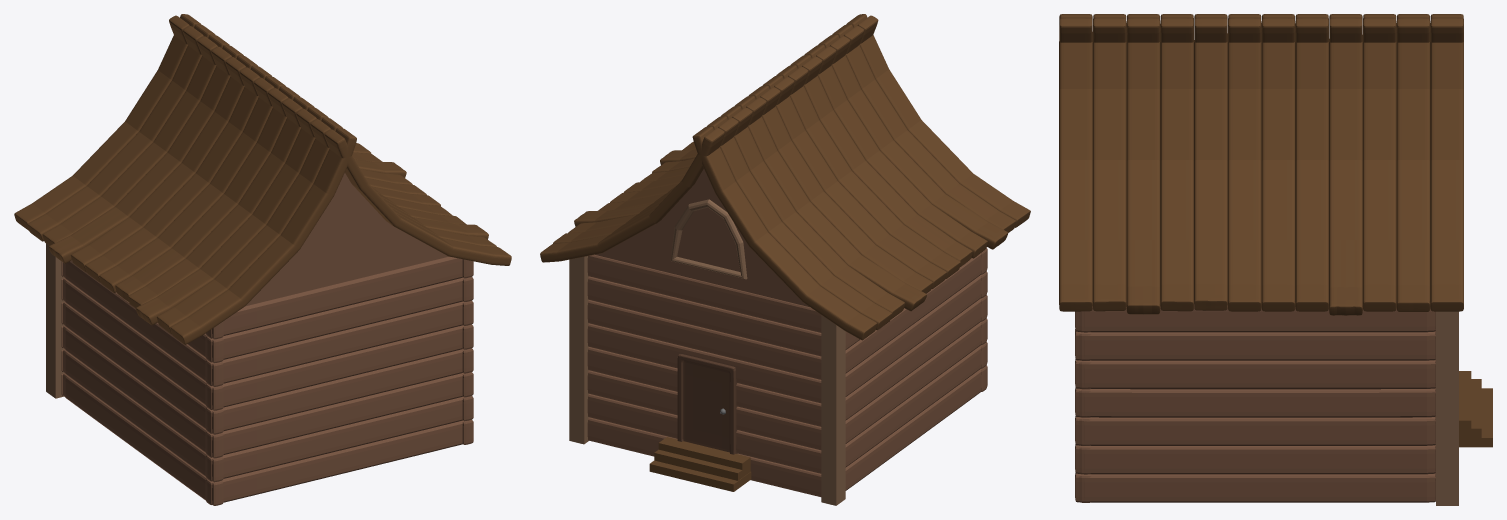
File: cabinsingle.fbx
The picture shows the model from 3 angles, left to right: view 1: azimuth 30°, elevation 25°; view 2: azimuth 150°, elevation 25°; view 3: azimuth 270°, elevation 25°; orthographic projection. The views are drawn at different scales.
Parts seen in each view (by area): view 1: Cube.006, Cube.010, Cube.005, Cube.007, Plane.004, Cube.009, Cube.004; view 2: Cube.006, Cube.003, Cube.005, Cube.007, Plane, Plane.001, Cube.009, Cube.012, Cube.008, Circle.003, Cube.010; view 3: Cube.007, Cube.004, Cube.006, Cube.008, Cube.012, Cube.010.
Part boxes in pixels (bbox=[...]): Cube.006: bbox=[14, 14, 356, 344]; Cube.010: bbox=[205, 256, 463, 504]; Cube.005: bbox=[63, 260, 223, 505]; Cube.007: bbox=[169, 15, 511, 265]; Plane.004: bbox=[245, 173, 448, 306]; Cube.009: bbox=[46, 243, 64, 398]; Cube.004: bbox=[462, 259, 473, 444]; Cube.006: bbox=[692, 14, 1030, 340]; Cube.003: bbox=[587, 254, 821, 496]; Cube.005: bbox=[845, 248, 987, 490]; Cube.007: bbox=[540, 15, 878, 262]; Plane: bbox=[595, 169, 809, 307]; Plane.001: bbox=[677, 354, 737, 454]; Cube.009: bbox=[821, 315, 845, 505]; Cube.012: bbox=[649, 437, 751, 491]; Cube.008: bbox=[569, 256, 588, 444]; Circle.003: bbox=[670, 199, 747, 279]; Cube.010: bbox=[981, 247, 987, 391]; Cube.007: bbox=[1059, 14, 1463, 315]; Cube.004: bbox=[1075, 304, 1435, 502]; Cube.006: bbox=[1059, 18, 1463, 42]; Cube.008: bbox=[1436, 311, 1458, 505]; Cube.012: bbox=[1459, 371, 1492, 447]; Cube.010: bbox=[1079, 311, 1091, 502].
Size of the model in its own units: 2369 by 2252 by 2162.
